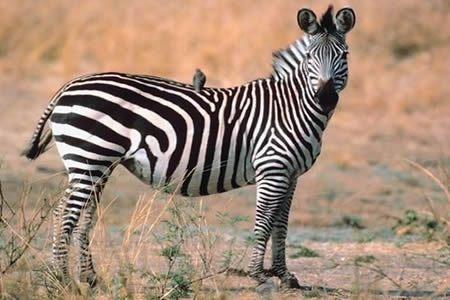zebra: (27, 6, 357, 286)
